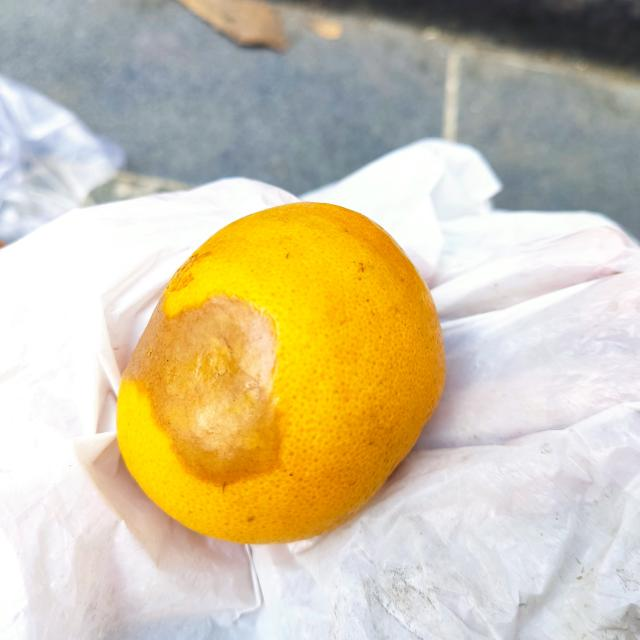orange: (113, 201, 448, 546)
